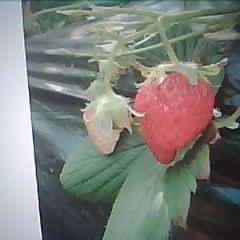straw-ripe: (134, 67, 215, 164)
straw-unripe: (84, 96, 130, 154)
